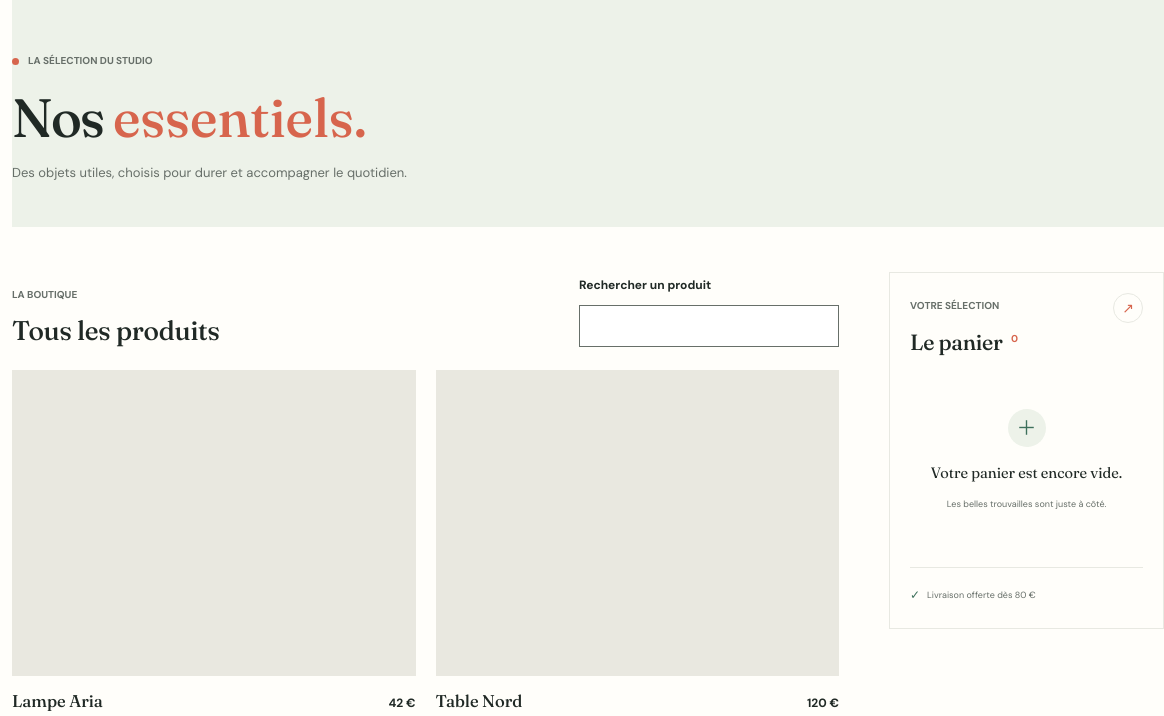
Test case: ProductsPage › writes the search typed by the user into the URL
Expected: the heading "Table Nord" is shown, [436,688,522,714]
Type "table" into the search field labelled "Rechercher un produit". click: (709, 326)
box: [579,305,839,347]
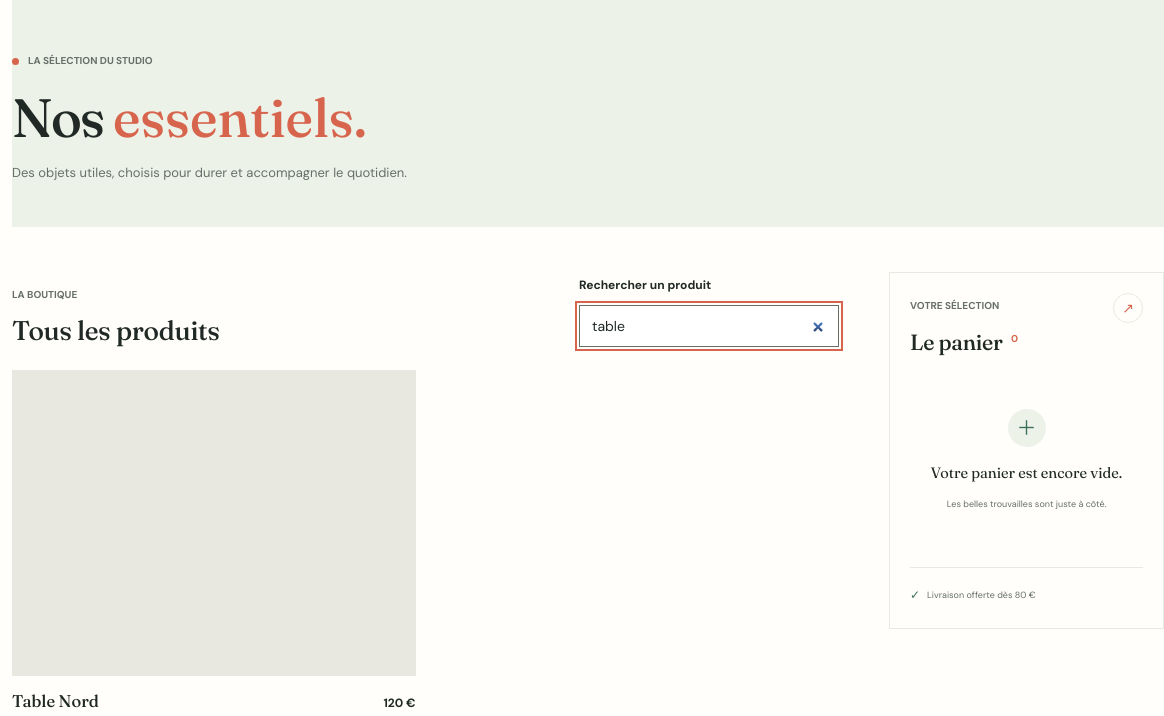
Expected: the link "Lampe Aria" is gone
